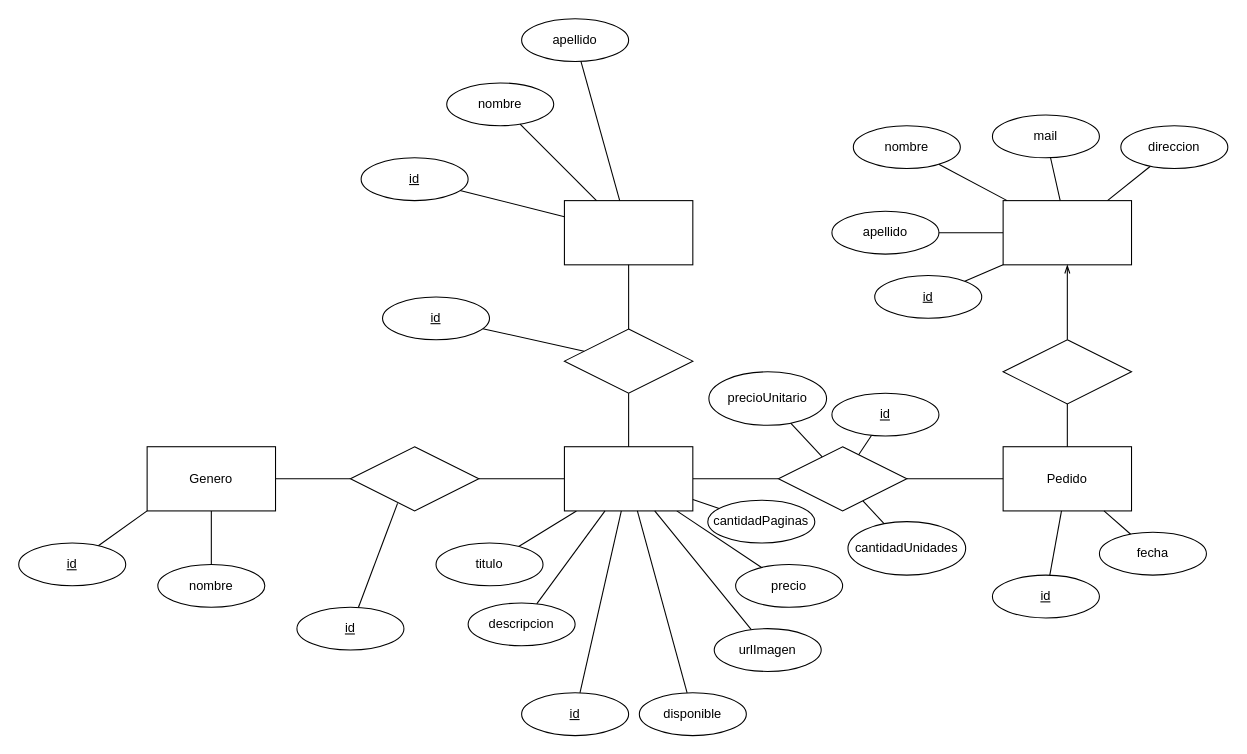
This 1247x754 diagram has some shape labels left out. Each missing label, with the box of its shape:
Autor: (563, 200, 693, 265)
Cliente: (1002, 200, 1132, 265)
Cliente_Pedido: (1002, 339, 1132, 404)
Libro: (563, 446, 693, 511)
Libro_Autor: (563, 328, 693, 393)
Libro_Genero: (349, 446, 479, 511)
Pedido_Libro: (777, 446, 907, 511)
